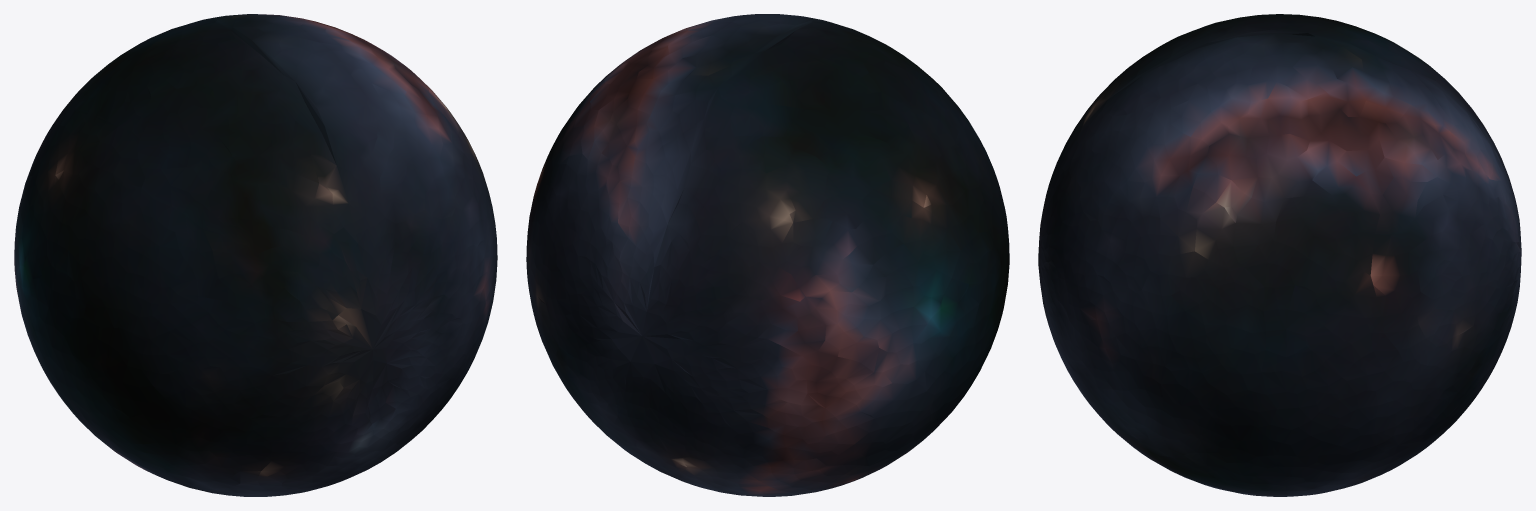
File: dark_blue_red_space_example_28.fbx
3 views of the same model, side by side, from view 1: azimuth 30°, elevation 25°; view 2: azimuth 150°, elevation 25°; view 3: azimuth 270°, elevation 25° (orthographic).
Visible parts, largest first — view 1: dark_blue_red_space; view 2: dark_blue_red_space; view 3: dark_blue_red_space.
Part boxes in pixels (bbox=[...]): dark_blue_red_space: bbox=[14, 14, 497, 496]; dark_blue_red_space: bbox=[526, 14, 1009, 496]; dark_blue_red_space: bbox=[1038, 14, 1521, 496].
Size of the model in its own units: 1064 by 1064 by 1065.
